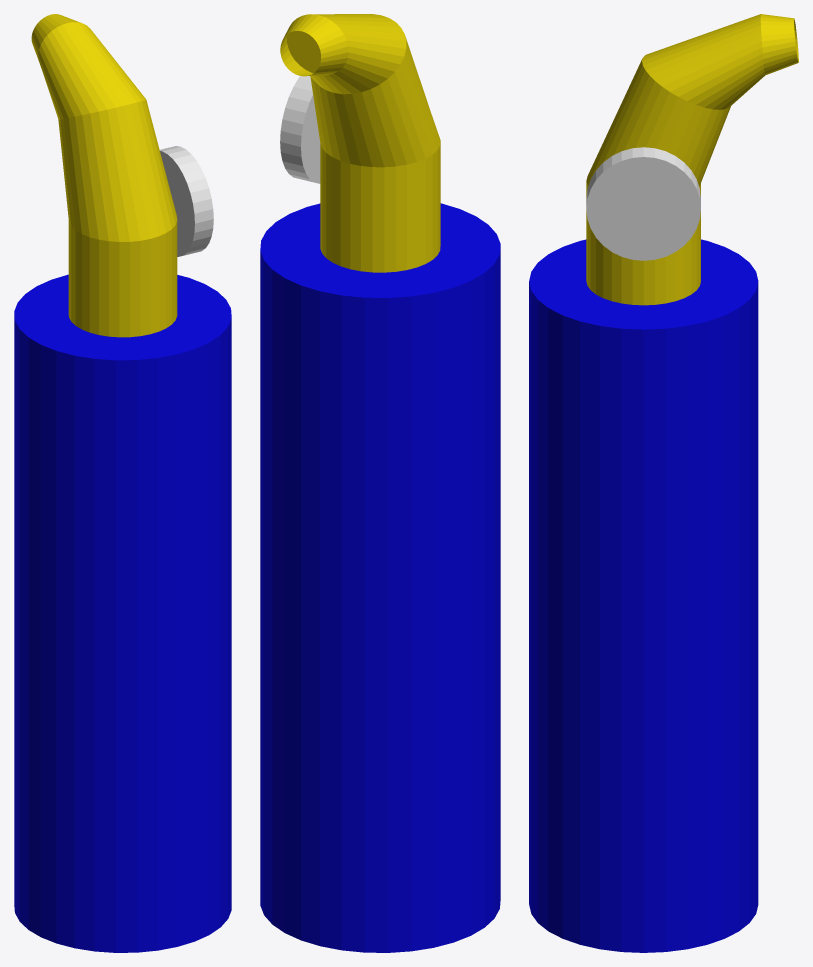
Rendered from Blowtorch.fbx.
3 renders of one model, left to right at view 1: azimuth 30°, elevation 25°; view 2: azimuth 150°, elevation 25°; view 3: azimuth 270°, elevation 25°, orthographic. The views are drawn at different scales.
Parts seen in each view (by area): view 1: Cylinder, Cylinder.001, Cylinder.002; view 2: Cylinder, Cylinder.001, Cylinder.002; view 3: Cylinder, Cylinder.001, Cylinder.002.
Part boxes in pixels (<box>): Cylinder: <box>14,274,231,952</box>; Cylinder.001: <box>31,14,177,337</box>; Cylinder.002: <box>159,146,213,256</box>; Cylinder: <box>260,203,500,952</box>; Cylinder.001: <box>280,14,440,272</box>; Cylinder.002: <box>280,76,320,183</box>; Cylinder: <box>529,239,758,952</box>; Cylinder.001: <box>586,14,798,305</box>; Cylinder.002: <box>586,147,700,260</box>.
Size of the model in its own units: 200 by 854 by 235.
